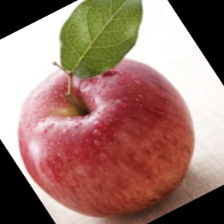apple: (40, 61, 182, 208)
